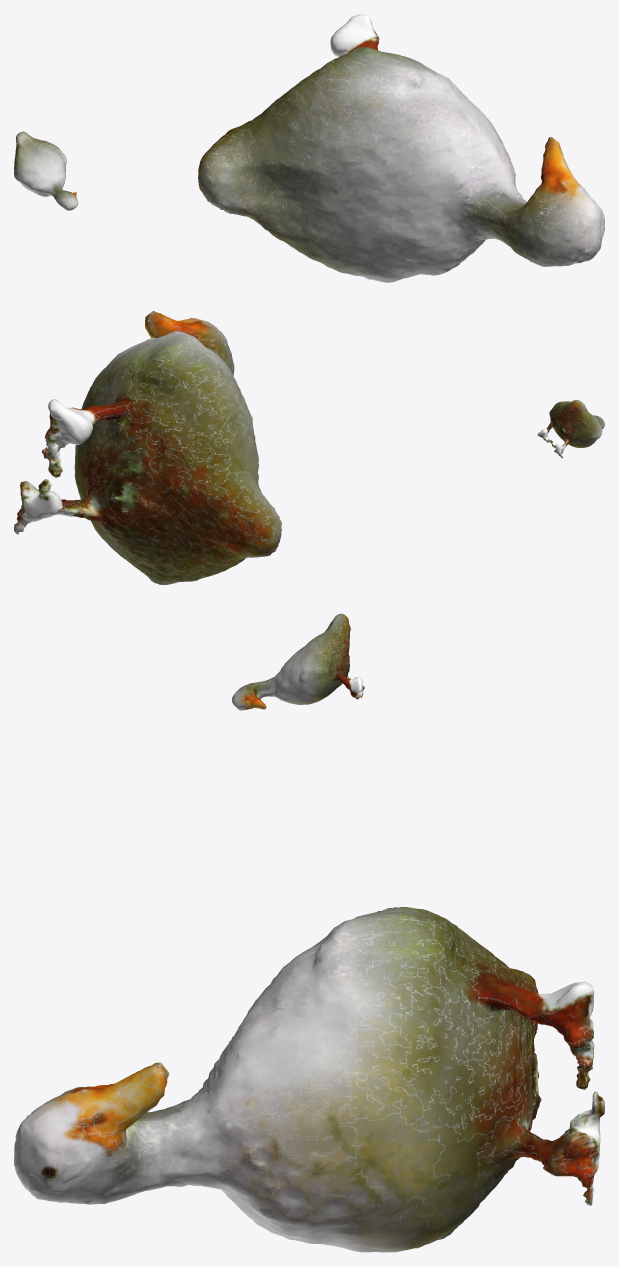
Rendered from duck_1.glb.
3 views of the same model, one above another, from view 1: azimuth 30°, elevation 25°; view 2: azimuth 150°, elevation 25°; view 3: azimuth 270°, elevation 25° (orthographic). The views are drawn at different scales.
Visible parts, largest first — view 1: model, model.001; view 2: model, model.001; view 3: model, model.001.
Part boxes in pixels (<box>): model: <box>198,14,604,282</box>; model.001: <box>14,131,78,210</box>; model: <box>14,311,281,584</box>; model.001: <box>537,400,604,458</box>; model: <box>14,907,604,1252</box>; model.001: <box>232,613,364,710</box>.
Bounding box in the file's own units: 1.71 × 0.8182 × 1.19.
Materials: 2 (2 with a texture image).
